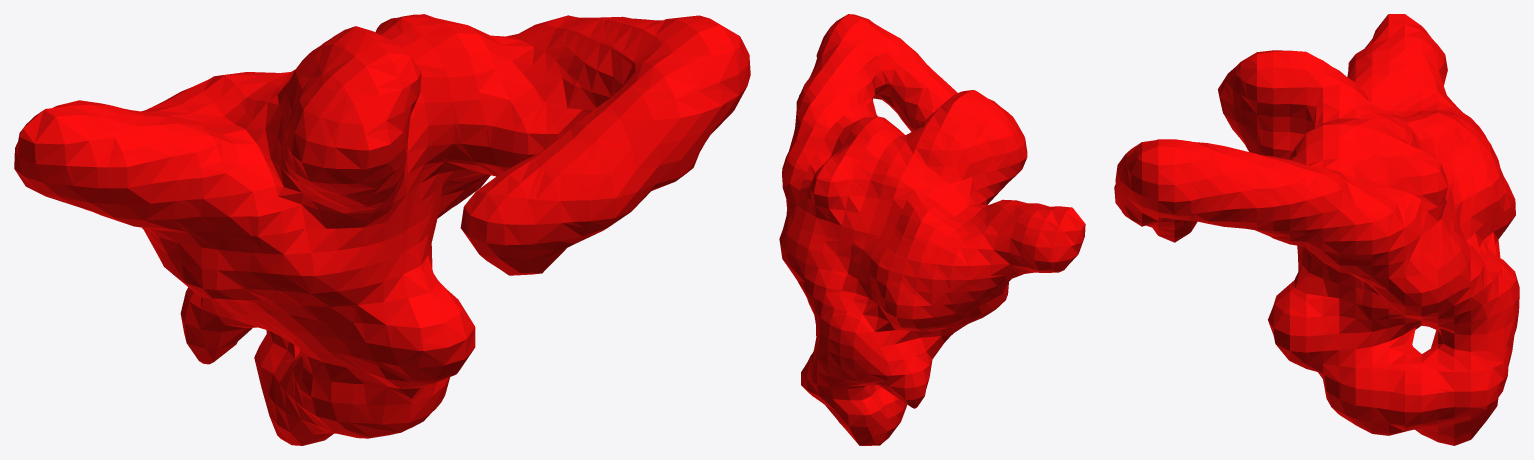
The model's file is Nucleosome_assembly_protein_1__coarse.dae.
3 renders of one model, left to right at view 1: azimuth 30°, elevation 25°; view 2: azimuth 150°, elevation 25°; view 3: azimuth 270°, elevation 25°, orthographic. The views are drawn at different scales.
Parts seen in each view (by area): view 1: Nucleosome_assembly_protein_1_; view 2: Nucleosome_assembly_protein_1_; view 3: Nucleosome_assembly_protein_1_.
Part boxes in pixels (x1=…): Nucleosome_assembly_protein_1_: x1=14, y1=14, x2=750, y2=445; Nucleosome_assembly_protein_1_: x1=779, y1=14, x2=1085, y2=445; Nucleosome_assembly_protein_1_: x1=1114, y1=14, x2=1519, y2=445.
Size of the model in its own units: 81.38 by 68.05 by 65.31.
